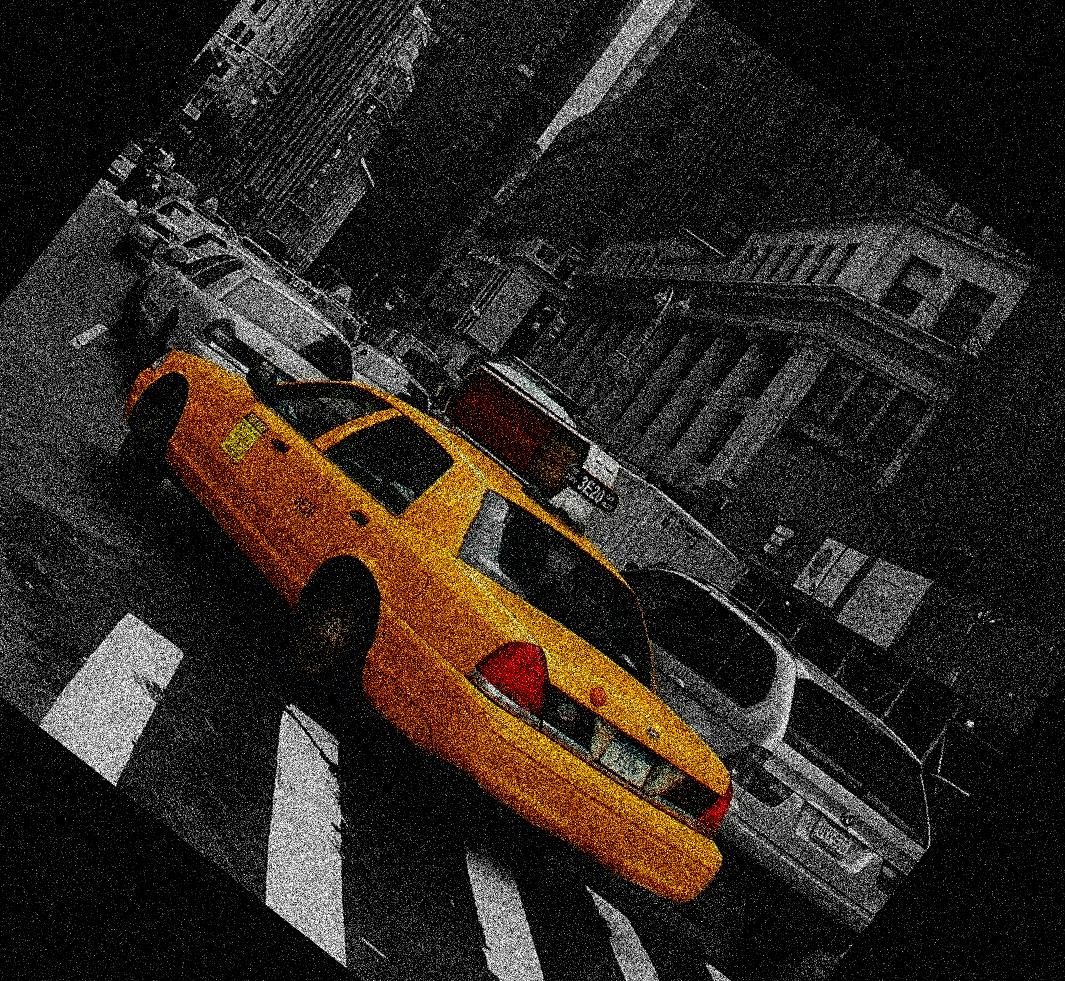taxi: (115, 351, 720, 911)
